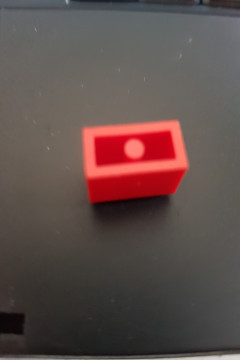1x2 red: (82, 119, 190, 203)
